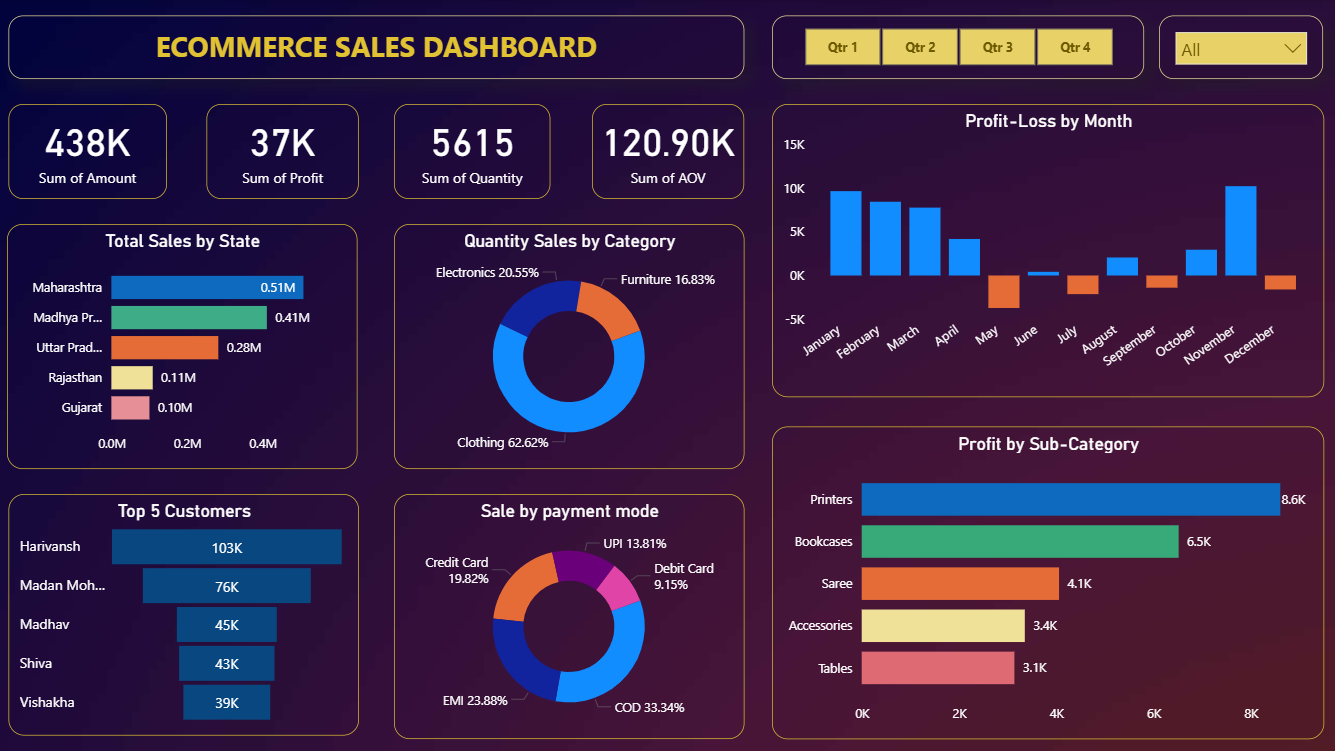

Layout of this report page (visuals, bound fields, positions):
{"tool":"powerbi","page":{"name":"Page 1","canvas":[1280,720],"ordinal":0},"visuals":[{"type":"textbox","box":[9.4,15.1,703,60.5],"z":0},{"type":"slicer","fields":{"Values":["Orders Data.Order Date.Variation.Date Hierarchy.Quarter"]},"box":[738.9,15.1,355.3,60.5],"z":1000},{"type":"slicer","fields":{"Values":["Orders Data.State"]},"box":[1109.3,15.1,156.9,60.5],"z":2000},{"type":"card","fields":{"Values":["Order Details Data.Amount"]},"box":[9.4,100.2,151.2,90.7],"z":3000},{"type":"card","fields":{"Values":["Order Details Data.Profit"]},"box":[198.4,100.2,145.5,90.7],"z":4000},{"type":"card","fields":{"Values":["Order Details Data.AOV"]},"box":[566.9,100.2,145.5,90.7],"z":5000},{"type":"card","fields":{"Values":["Order Details Data.Quantity"]},"box":[378,100.2,149.3,90.7],"z":6000},{"type":"columnChart","title":"Profit-Loss by Month","fields":{"Category":["Orders Data.Order Date.Variation.Date Hierarchy.Month"],"Y":["Order Details Data.Profit"]},"box":[738.9,100.2,527.2,279.7],"z":7000},{"type":"barChart","title":"Total Sales by State","fields":{"Category":["Orders Data.State"],"Y":["Order Details Data.Total Sales"]},"box":[9,215,334.5,234.3],"z":8000},{"type":"donutChart","title":"Quantity Sales by Category","fields":{"Category":["Order Details Data.Category"],"Y":["Order Details Data.Quantity"]},"box":[378,215,334.5,234.3],"z":9000},{"type":"funnel","title":"Top 5 Customers","fields":{"Y":["Order Details Data.Total Sales"],"Category":["Orders Data.CustomerName"]},"box":[9.4,472.4,334.5,230.6],"z":10000},{"type":"donutChart","title":"Sale by payment mode","fields":{"Category":["Order Details Data.PaymentMode"],"Y":["Order Details Data.Total Sales"]},"box":[378,472.4,334.5,234.3],"z":11000},{"type":"barChart","title":"Profit by Sub-Category","fields":{"Y":["Order Details Data.Profit"],"Category":["Order Details Data.Sub-Category"]},"box":[738.9,408.2,527.2,298.6],"z":12000}]}

Visuals, with their boxes in screenshot pixels (x1, y1, x2, y2), scaled from the page's 1280x720 canvas onto the 1335x751 screenshot:
textbox: crop(10, 16, 743, 79)
slicer - Orders Data.Order Date.Variation.Date Hierarchy.Quarter: crop(771, 16, 1141, 79)
slicer - Orders Data.State: crop(1157, 16, 1321, 79)
card - Order Details Data.Amount: crop(10, 105, 168, 199)
card - Order Details Data.Profit: crop(207, 105, 359, 199)
card - Order Details Data.AOV: crop(591, 105, 743, 199)
card - Order Details Data.Quantity: crop(394, 105, 550, 199)
"Profit-Loss by Month" columnChart: crop(771, 105, 1321, 396)
"Total Sales by State" barChart: crop(9, 224, 358, 469)
"Quantity Sales by Category" donutChart: crop(394, 224, 743, 469)
"Top 5 Customers" funnel: crop(10, 493, 359, 733)
"Sale by payment mode" donutChart: crop(394, 493, 743, 737)
"Profit by Sub-Category" barChart: crop(771, 426, 1321, 737)
